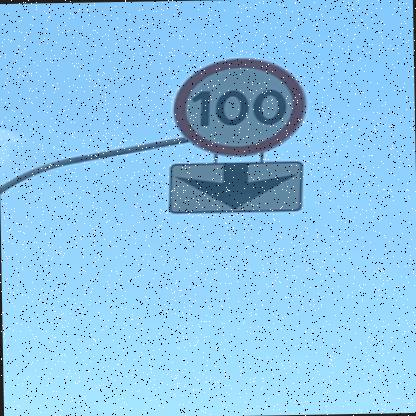speedlimit: (169, 54, 306, 156)
